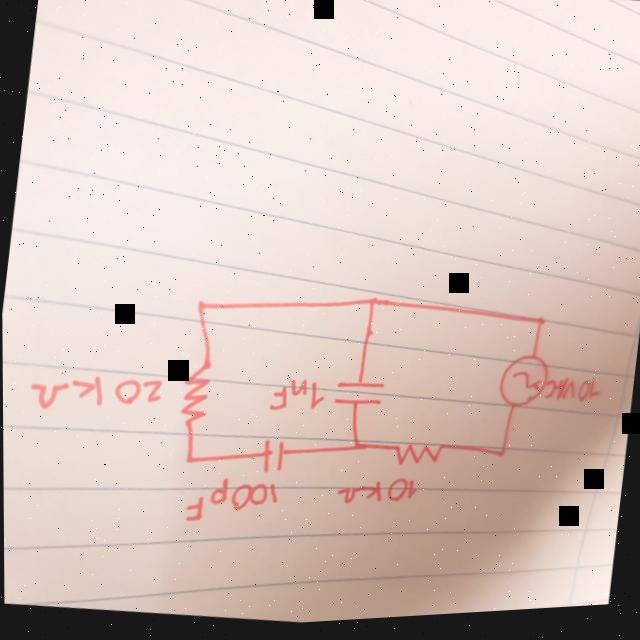capacitor: (327, 372, 386, 419), (255, 432, 290, 481)
junction: (189, 298, 215, 320), (360, 295, 382, 319), (343, 440, 365, 460), (177, 451, 199, 470), (489, 447, 508, 466), (529, 318, 547, 337)
resistor: (172, 362, 214, 428), (392, 439, 441, 476)
source: (492, 356, 554, 416)
text: (24, 362, 168, 425), (180, 473, 281, 535), (333, 471, 418, 517), (262, 376, 326, 420), (540, 378, 604, 414)
